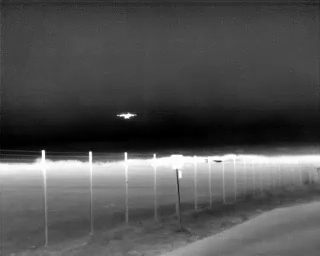AIRPLANE: (115, 109, 138, 122)
